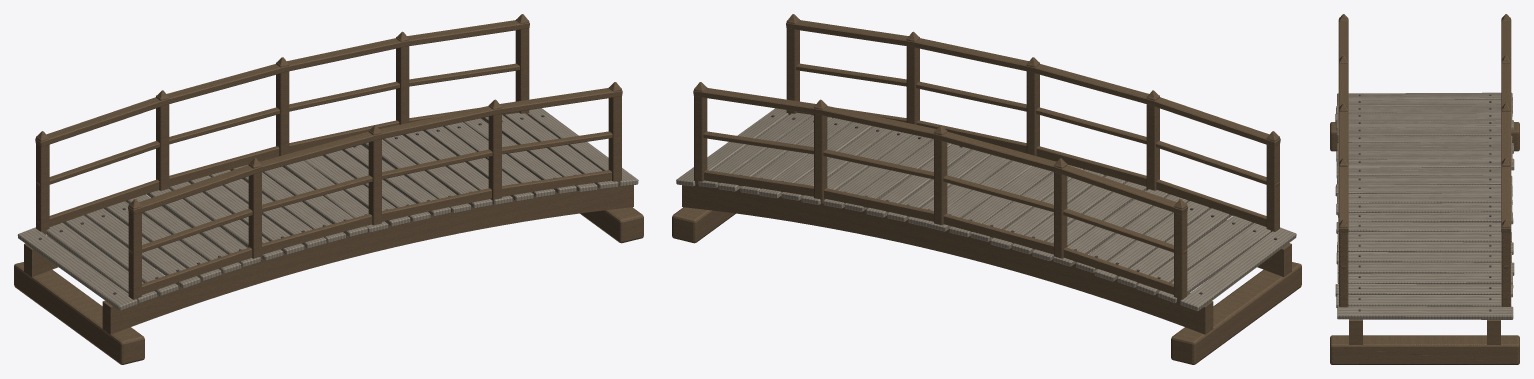
The model's file is a-basic-wooden-bridge.glb.
The picture shows the model from 3 angles, left to right: view 1: azimuth 30°, elevation 25°; view 2: azimuth 150°, elevation 25°; view 3: azimuth 270°, elevation 25°; orthographic projection. The views are drawn at different scales.
Parts seen in each view (by area): view 1: BridgeFrame, BridgeDeck; view 2: BridgeFrame, BridgeDeck; view 3: BridgeDeck, BridgeFrame, BridgeNails.
Boxes of the visible parts, x1=… form: BridgeFrame: x1=14, y1=14, x2=643, y2=364; BridgeDeck: x1=17, y1=108, x2=638, y2=310; BridgeFrame: x1=672, y1=14, x2=1301, y2=364; BridgeDeck: x1=676, y1=108, x2=1296, y2=311; BridgeDeck: x1=1335, y1=92, x2=1514, y2=319; BridgeFrame: x1=1330, y1=14, x2=1519, y2=364; BridgeNails: x1=1358, y1=94, x2=1491, y2=311.
Size of the model in its own units: 6 by 1.88 by 2.15.
Materials: 3 (2 with a texture image).
